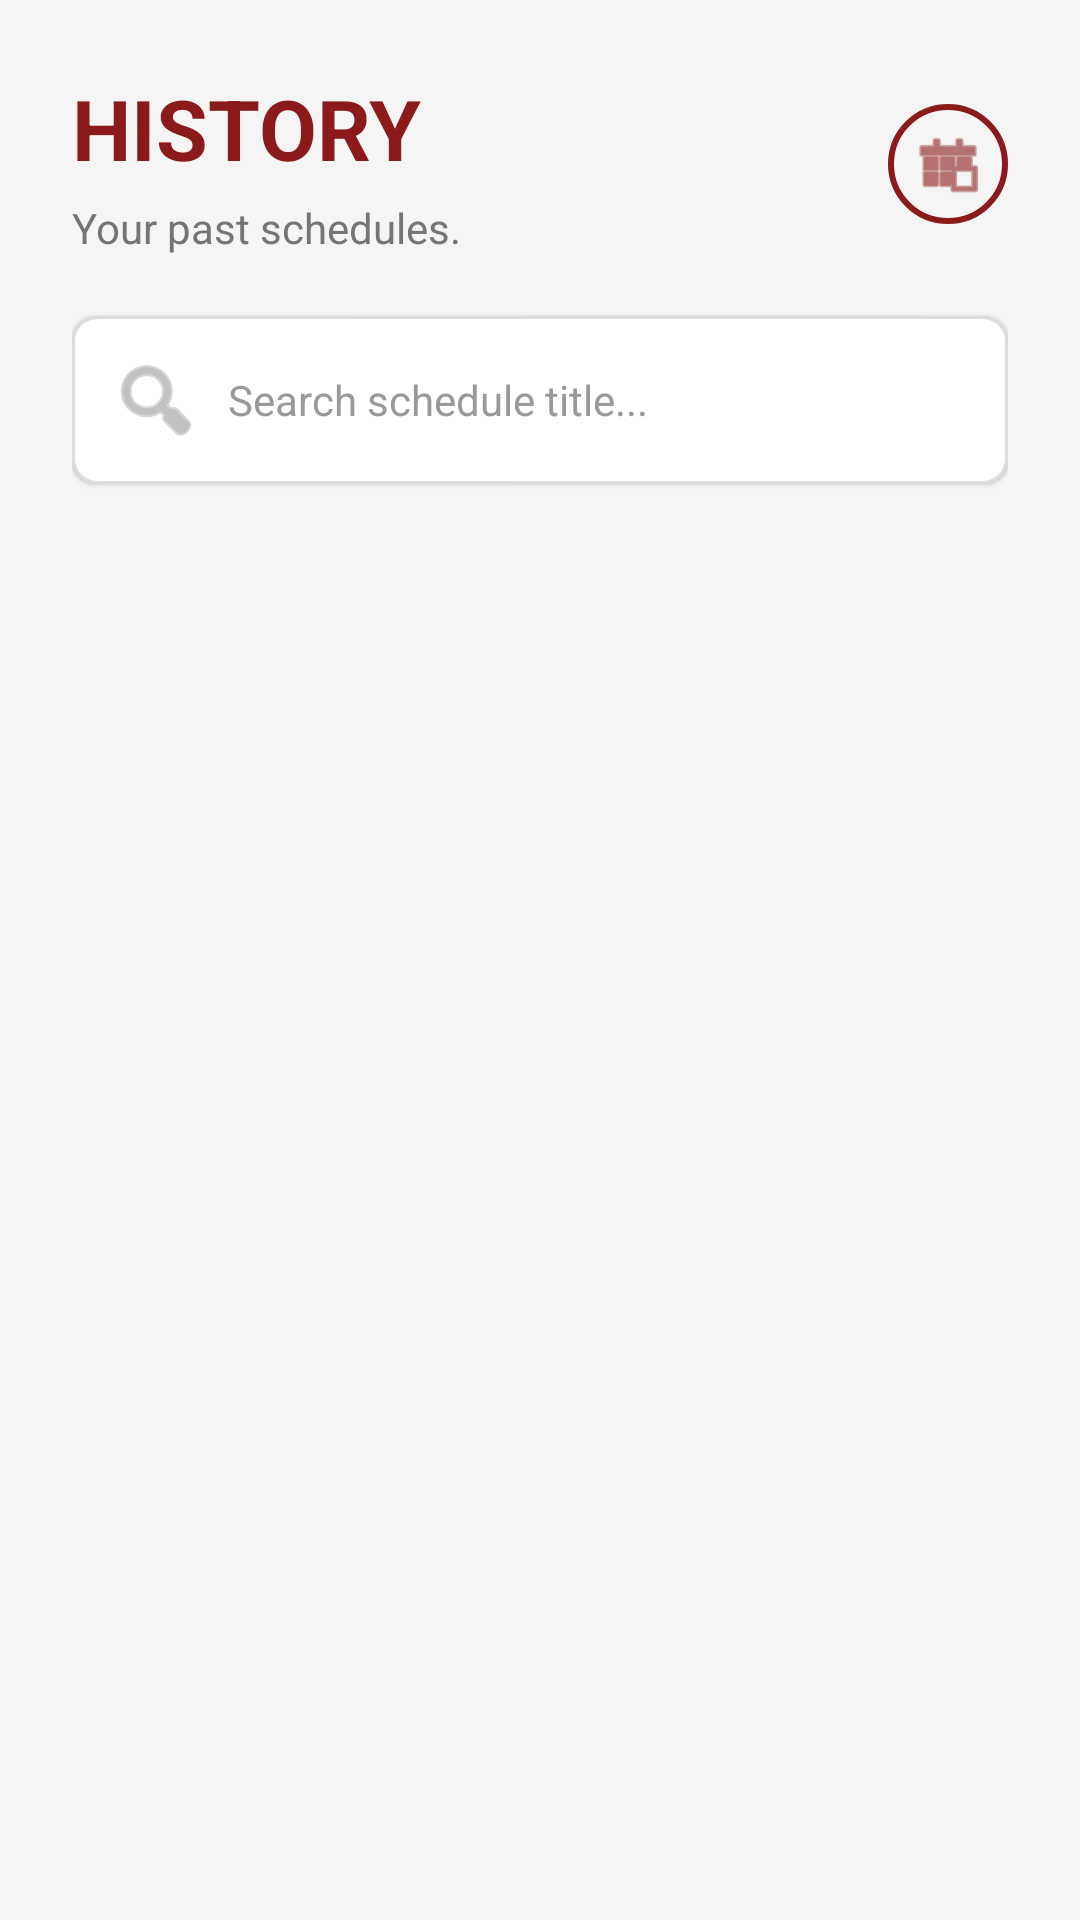

Named icons in this screenshot (1080x1920) and their bounding boxes, (x1, y1, x2, y2):
today: (888, 104, 1008, 224)
